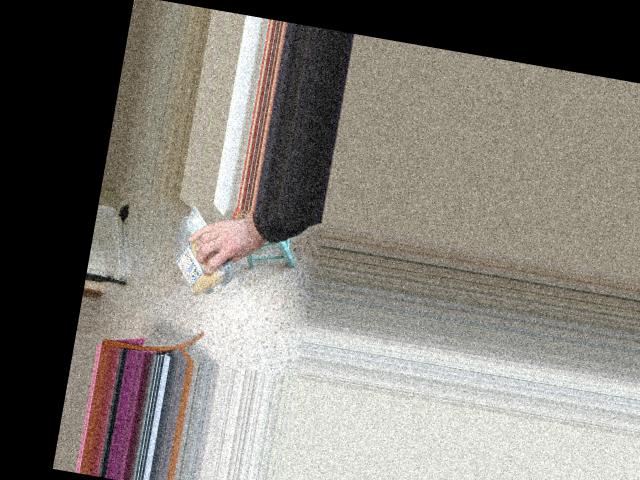cheese: (168, 204, 227, 308)
